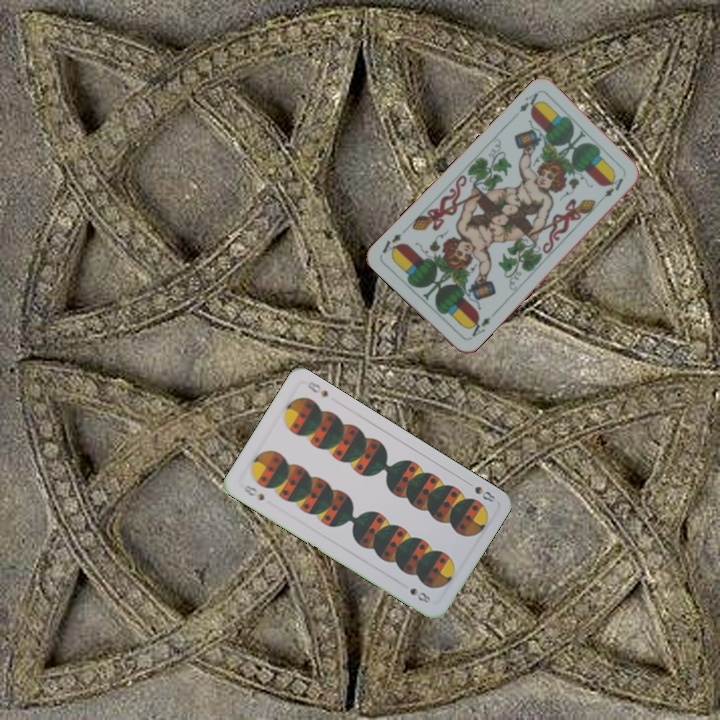EA: (464, 313, 494, 342), (515, 88, 544, 115)
S8: (461, 477, 498, 505), (239, 481, 267, 503)
